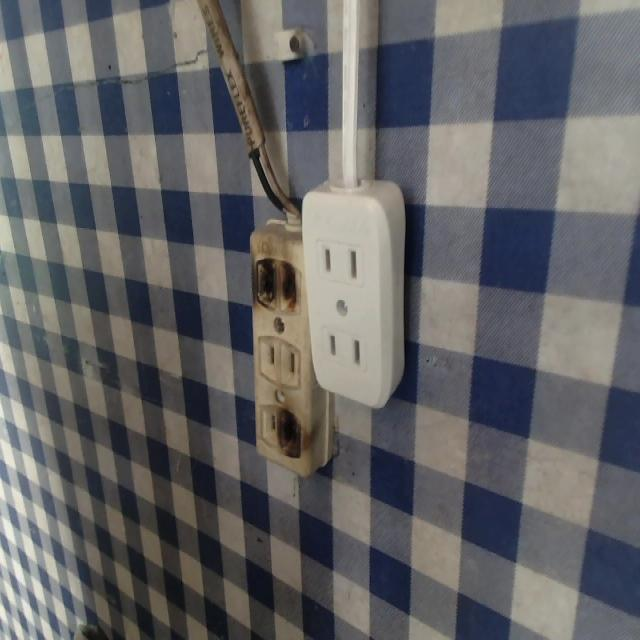-: (248, 253, 305, 320), (272, 406, 312, 466)
